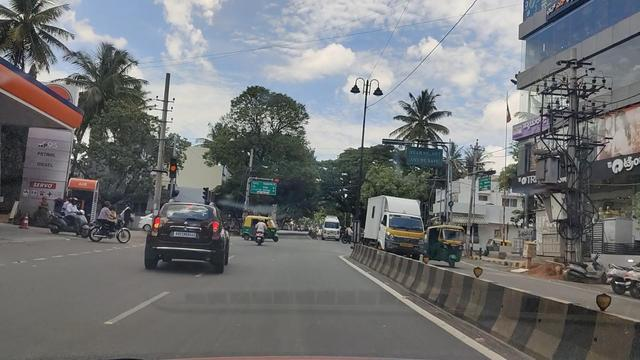LMV: (137, 208, 224, 276)
